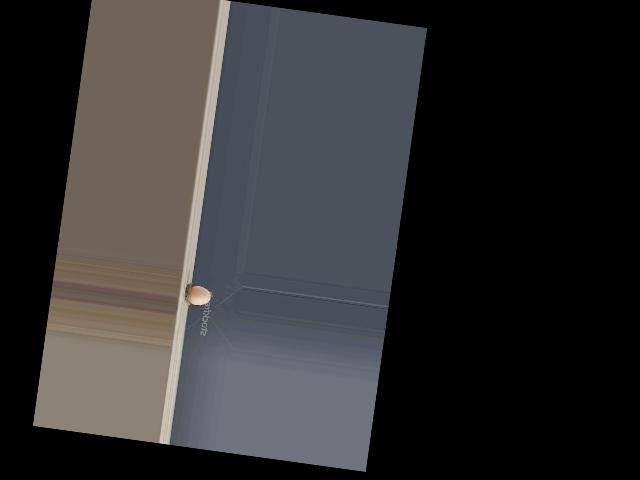egg: (188, 284, 211, 306)
